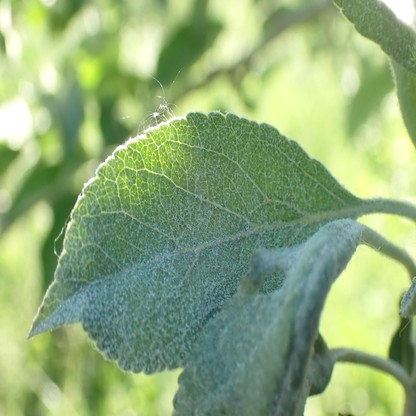powdery_mildew: (27, 110, 362, 379), (173, 220, 376, 416)
